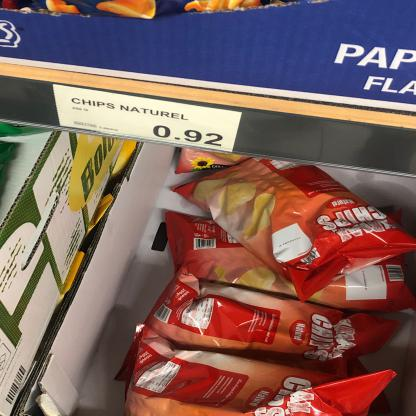prtg: (53, 85, 243, 154)
